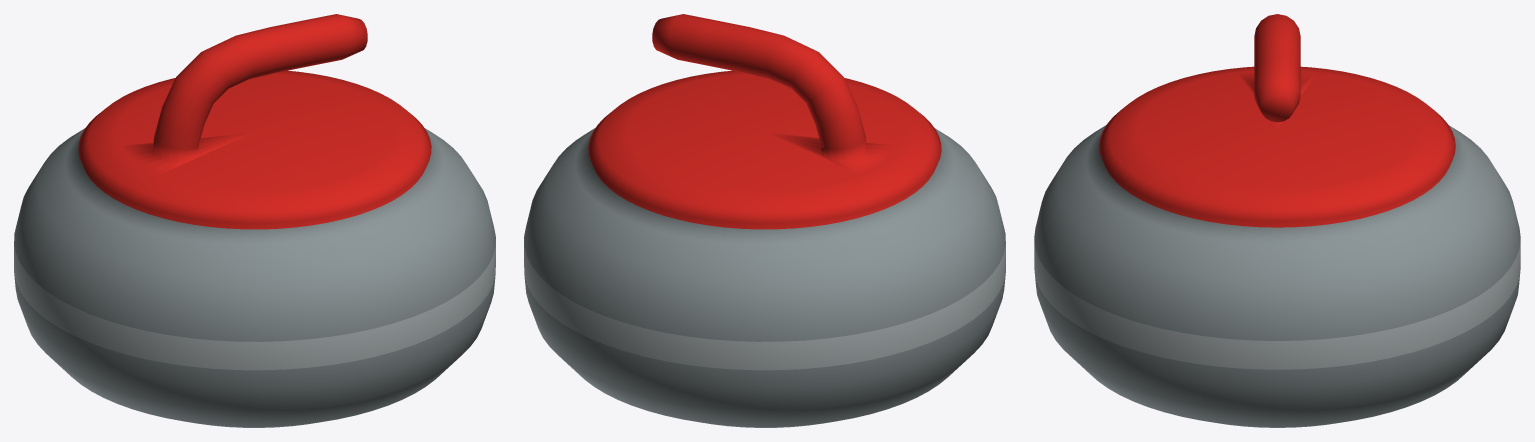
File: NEW_RECOVERY_098_LOD0.glb
The picture shows the model from 3 angles, left to right: view 1: azimuth 30°, elevation 25°; view 2: azimuth 150°, elevation 25°; view 3: azimuth 270°, elevation 25°; orthographic projection.
Parts seen in each view (by area): view 1: Curling stone | fused stone and raised gooseneck handle; view 2: Curling stone | fused stone and raised gooseneck handle; view 3: Curling stone | fused stone and raised gooseneck handle.
Boxes of the visible parts, bbox=[...] form: Curling stone | fused stone and raised gooseneck handle: bbox=[14, 14, 495, 427]; Curling stone | fused stone and raised gooseneck handle: bbox=[524, 14, 1005, 427]; Curling stone | fused stone and raised gooseneck handle: bbox=[1034, 14, 1520, 427].
Size of the model in its own units: 0.292 by 0.221 by 0.292.
